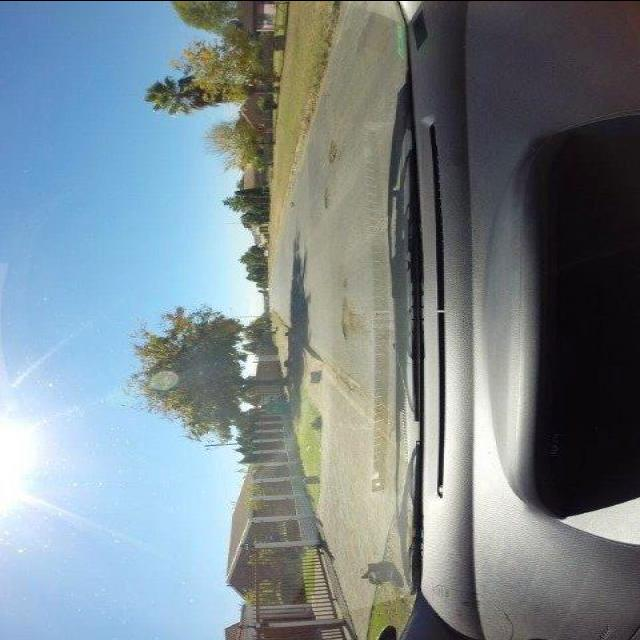lubang: (336, 295, 362, 341), (322, 136, 342, 164), (320, 184, 330, 210), (286, 197, 300, 210), (340, 277, 350, 290)
